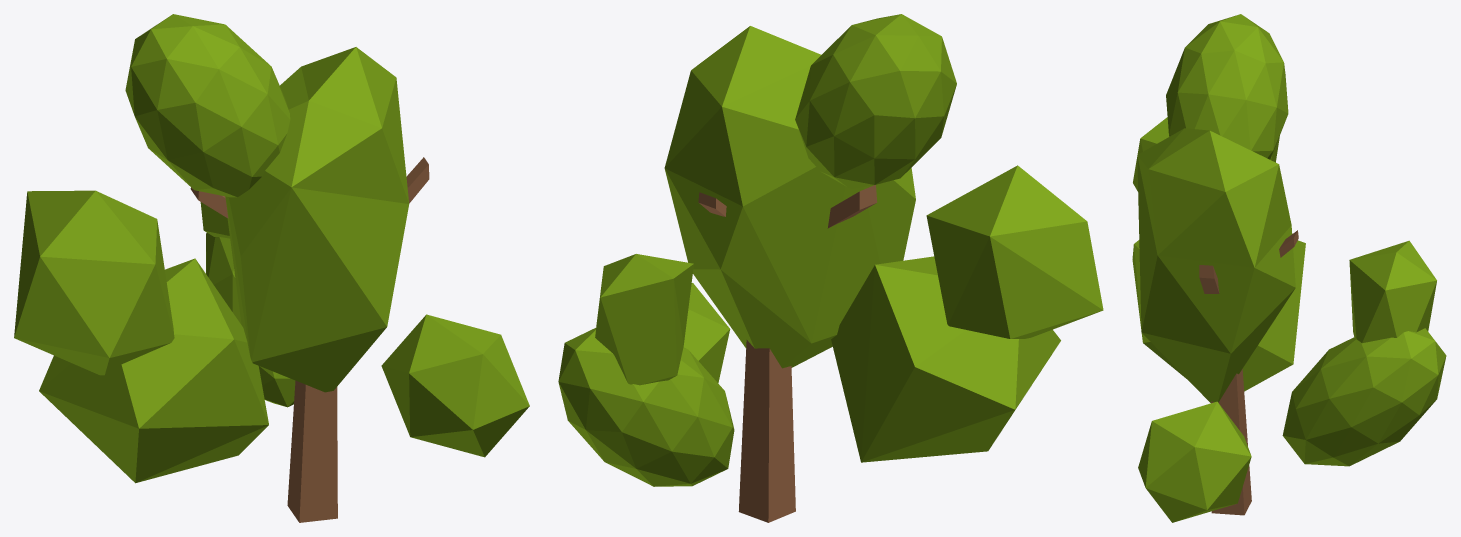
File: tree-summer-complete-1-052.glb
3 views of the same model, side by side, from view 1: azimuth 30°, elevation 25°; view 2: azimuth 150°, elevation 25°; view 3: azimuth 270°, elevation 25° (orthographic). The views are drawn at different scales.
Parts seen in each view (by area): view 1: TREE 1_279, TREE 1.001_280; view 2: TREE 1_279, TREE 1.001_280; view 3: TREE 1_279, TREE 1.001_280.
Part boxes in pixels (left/top/right/bottom): TREE 1_279: left=14, top=14, right=529, bottom=483; TREE 1.001_280: left=190, top=157, right=429, bottom=522; TREE 1_279: left=558, top=14, right=1103, bottom=486; TREE 1.001_280: left=698, top=185, right=877, bottom=522; TREE 1_279: left=1132, top=14, right=1446, bottom=522; TREE 1.001_280: left=1199, top=230, right=1298, bottom=515.
Bounding box in the file's own units: 1.17 × 1.19 × 0.7756.
